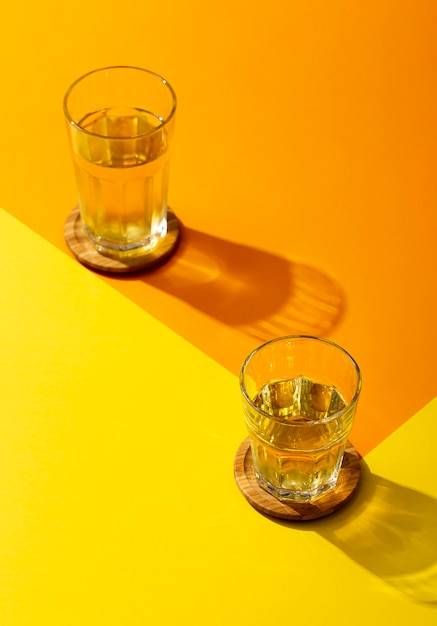alcohol: (57, 64, 177, 257), (239, 338, 357, 509)
